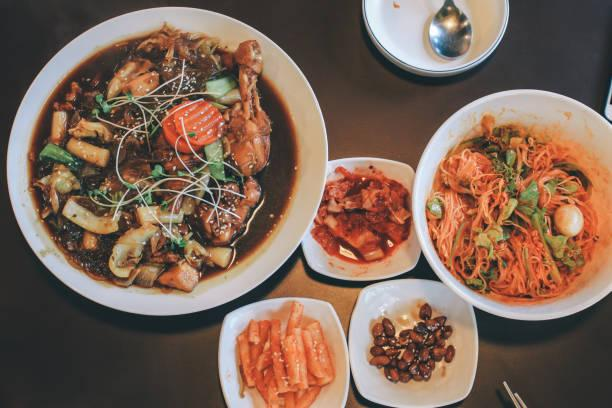Braised Crucian Carp: (5, 7, 324, 320), (412, 89, 610, 320)
